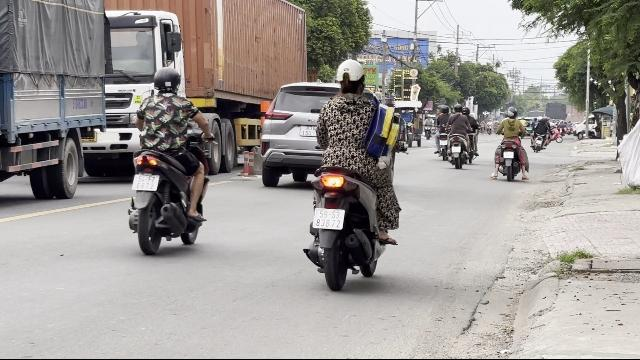helmet: (334, 58, 366, 92), (150, 66, 182, 98)
licenseplate: (314, 208, 344, 230), (133, 174, 159, 192)
motorcyclist: (302, 56, 404, 290), (125, 64, 212, 254)
